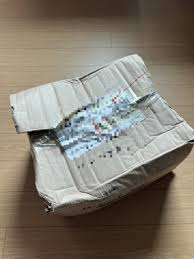damaged package: (18, 103, 115, 149), (139, 94, 154, 110)
